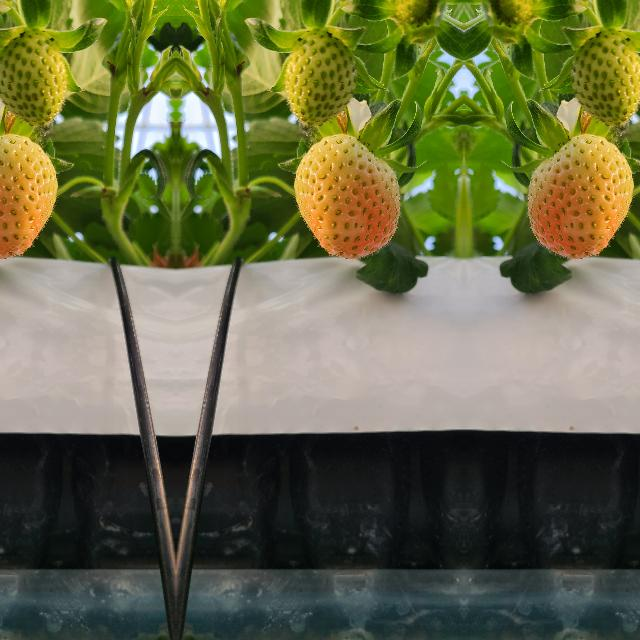Health_25: (284, 30, 356, 130), (570, 30, 640, 130), (0, 30, 66, 130)
Health_50: (290, 132, 400, 262), (526, 132, 636, 262), (0, 132, 60, 261)
